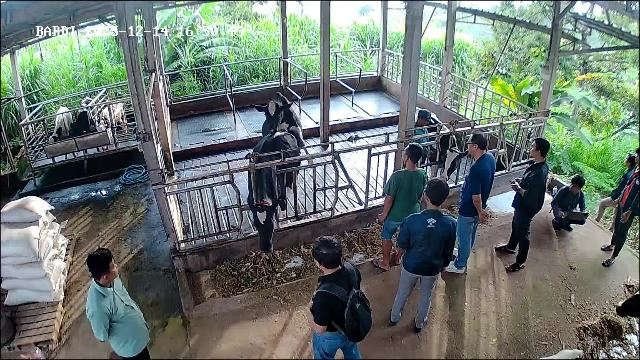mounting: (252, 95, 318, 181)
